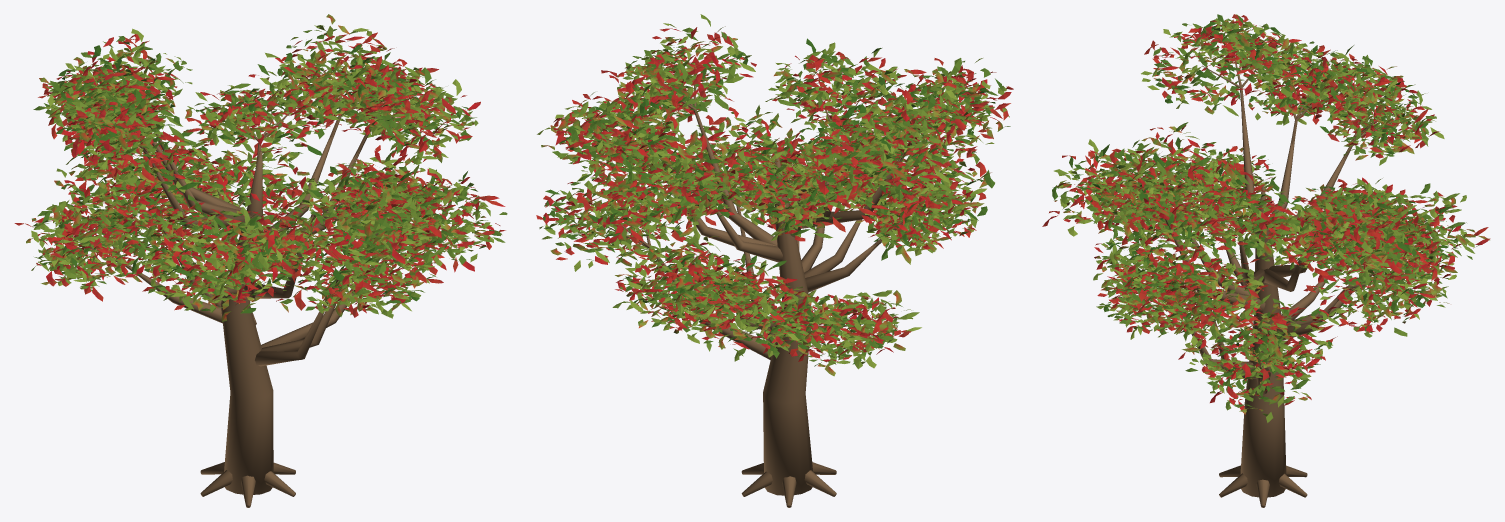
The model's file is tree-pohutukawa-lod.glb.
The picture shows the model from 3 angles, left to right: view 1: azimuth 30°, elevation 25°; view 2: azimuth 150°, elevation 25°; view 3: azimuth 270°, elevation 25°; orthographic projection. The views are drawn at different scales.
Parts seen in each view (by area): view 1: tree-pohutukawa export; view 2: tree-pohutukawa export; view 3: tree-pohutukawa export.
Part boxes in pixels (left/top/right/bottom): tree-pohutukawa export: left=14, top=14, right=507, bottom=507; tree-pohutukawa export: left=536, top=14, right=1013, bottom=507; tree-pohutukawa export: left=1042, top=14, right=1490, bottom=507.
Size of the model in its own units: 10.56 by 9.98 by 9.95.
